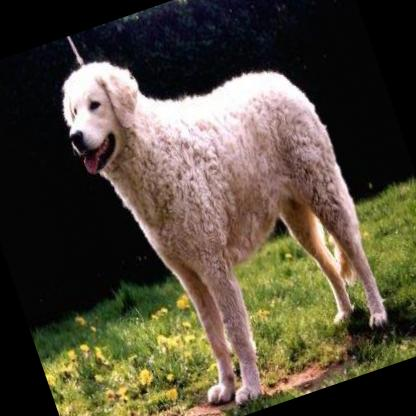kuvasz: (46, 0, 406, 416)
